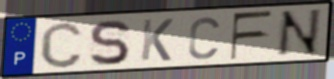C: (38, 19, 85, 70), (187, 15, 222, 61)
F: (228, 9, 275, 62)
K: (139, 17, 176, 63)
N: (273, 7, 323, 59)
S: (87, 18, 131, 67)
